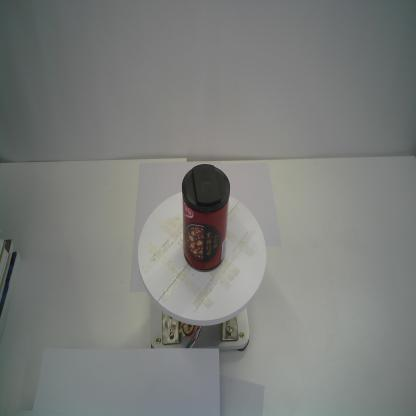Canned Food: (181, 162, 231, 273)
